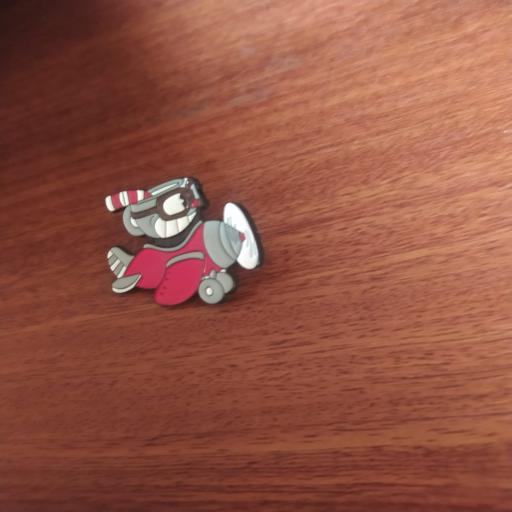Pin: (80, 169, 272, 318)
